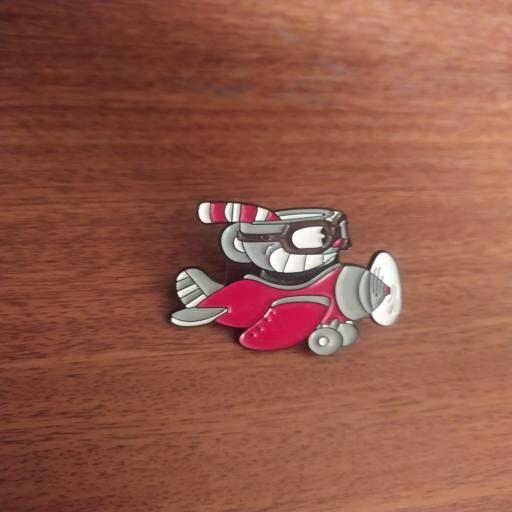Pin: (160, 194, 413, 368)
